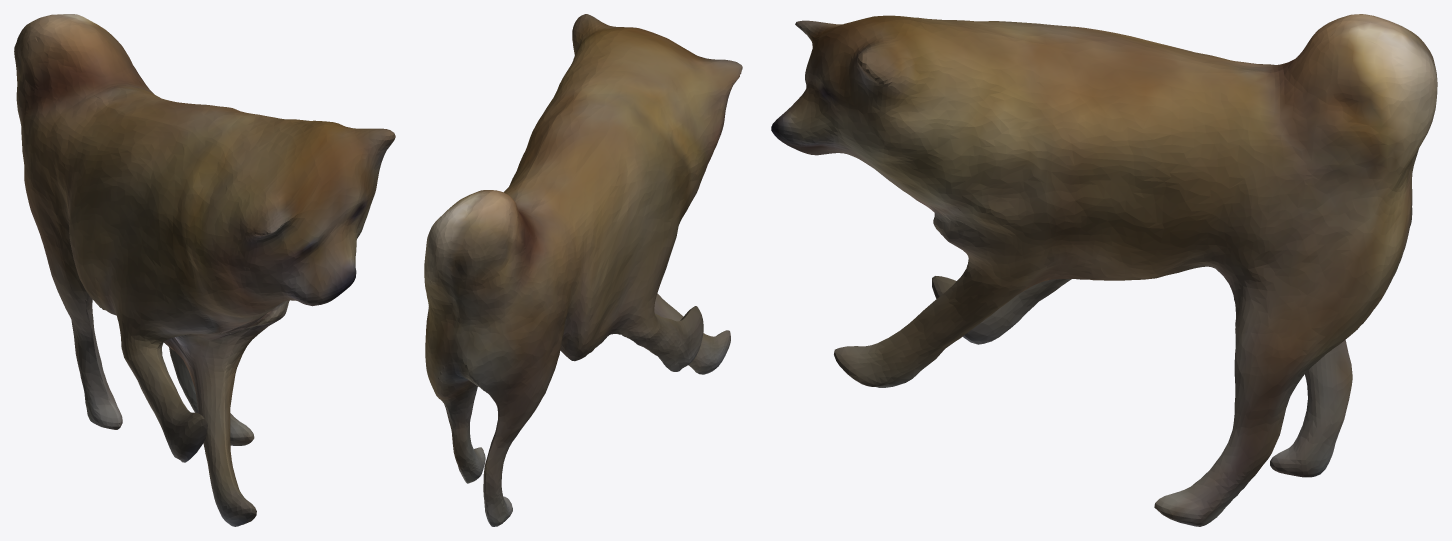
The model's file is shiba-haru-1002-mesh-00012.obj.
The picture shows the model from 3 angles, left to right: view 1: azimuth 30°, elevation 25°; view 2: azimuth 150°, elevation 25°; view 3: azimuth 270°, elevation 25°; orthographic projection. The views are drawn at different scales.
Size of the model in its own units: 0.0343 by 0.0769 by 0.0958.
